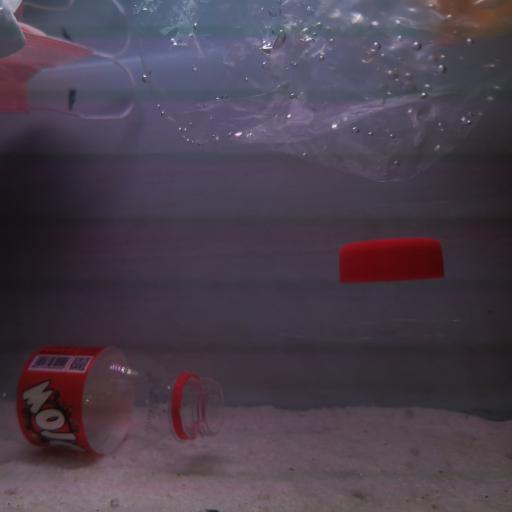bottle_cap: (339, 238, 446, 281)
mask: (4, 23, 138, 133)
plastic_bag: (139, 2, 511, 194)
plastic_bottle: (2, 340, 224, 462)
